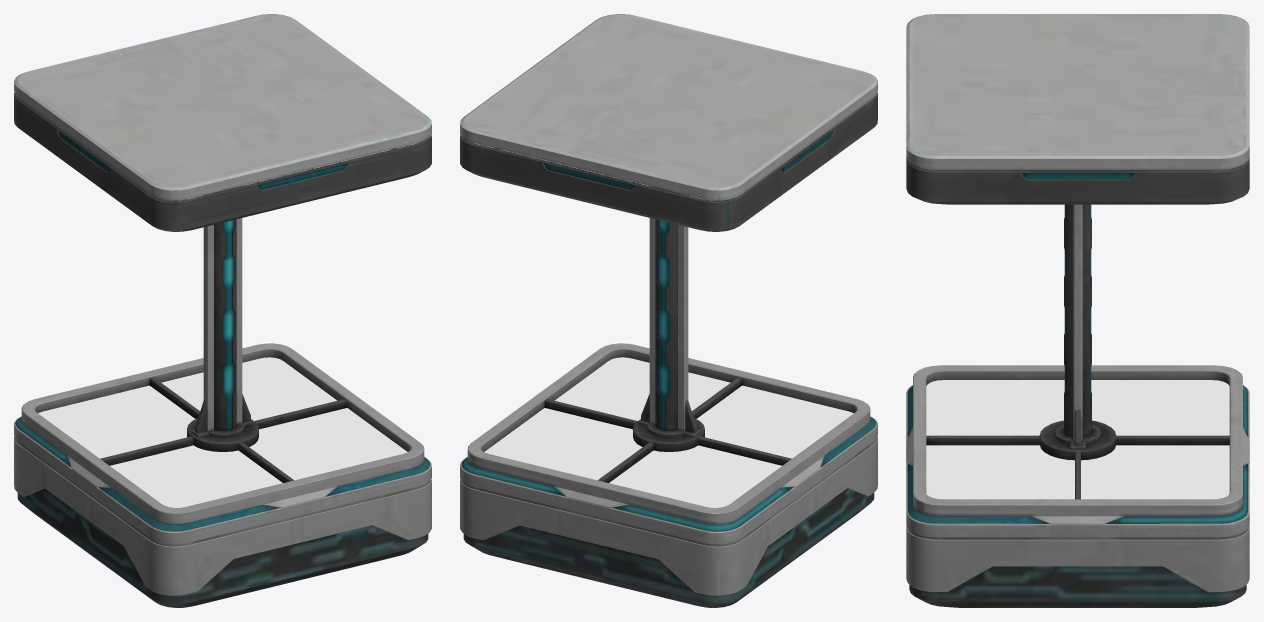
The model's file is SM_HydroponicsAncient_c76c4c.glb.
The picture shows the model from 3 angles, left to right: view 1: azimuth 30°, elevation 25°; view 2: azimuth 150°, elevation 25°; view 3: azimuth 270°, elevation 25°; orthographic projection. The views are drawn at different scales.
Size of the model in its own units: 1.8 by 2.68 by 1.8.
2 materials, 1 textured.
